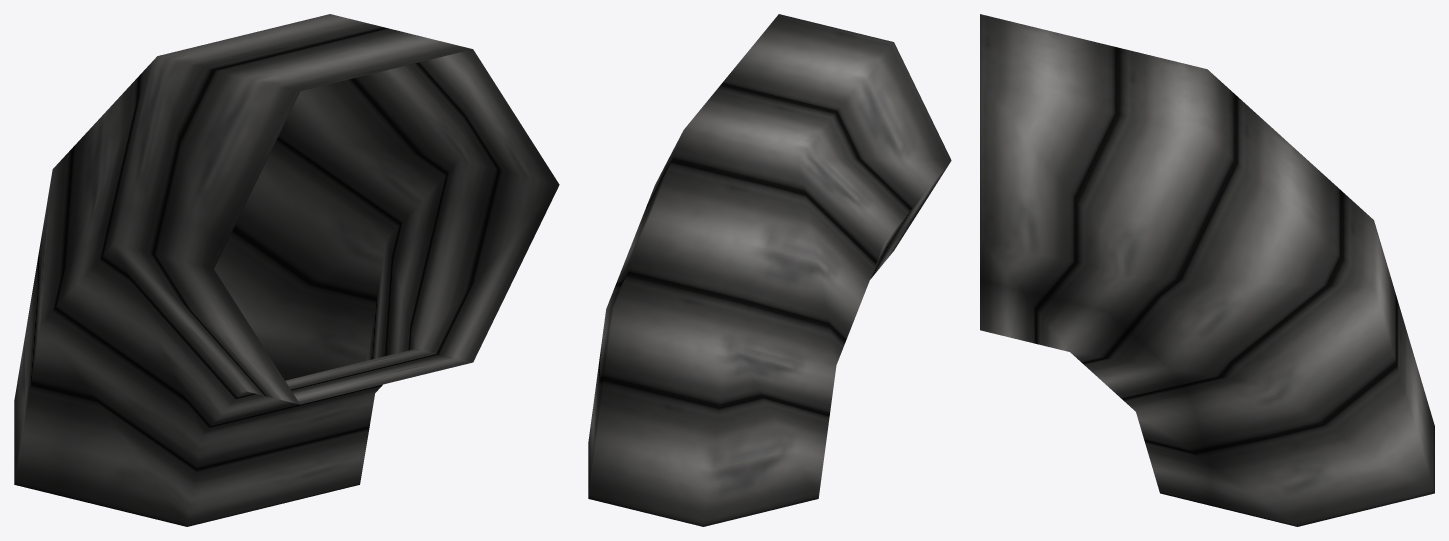
File: small_ribbed_2_elbow.fbx
3 renders of one model, left to right at view 1: azimuth 30°, elevation 25°; view 2: azimuth 150°, elevation 25°; view 3: azimuth 270°, elevation 25°, orthographic. The views are drawn at different scales.
Parts seen in each view (by area): view 1: allPipes:pTorus35; view 2: allPipes:pTorus35; view 3: allPipes:pTorus35.
Part boxes in pixels (bbox=[...]): allPipes:pTorus35: bbox=[14, 14, 559, 526]; allPipes:pTorus35: bbox=[588, 14, 951, 526]; allPipes:pTorus35: bbox=[980, 14, 1434, 526].
Size of the model in its own units: 0.25 by 0.3583 by 0.3583.
